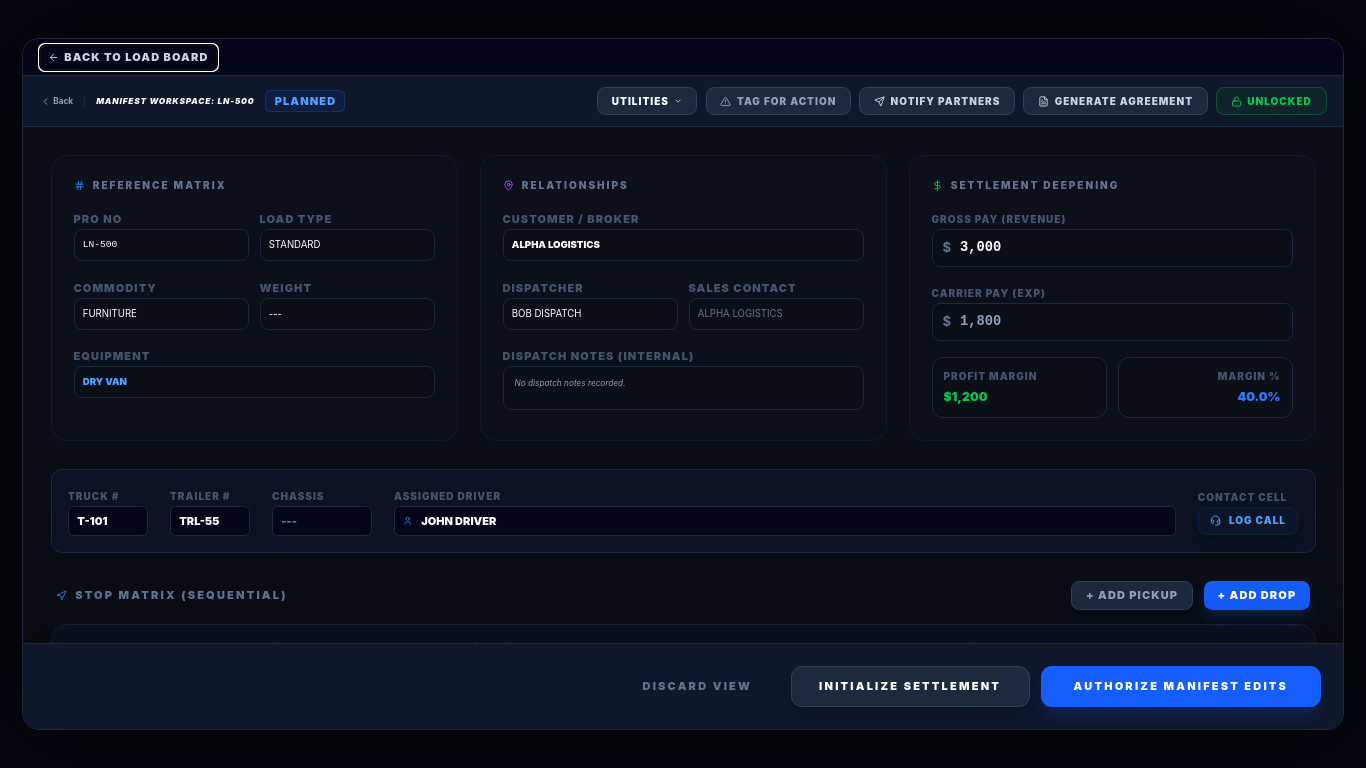
Scenario: LoadDetailView deep coverage — lines 151-190 › toast display after invoice generation (lines 175-180) › disables Initialize Settlement button while generating
The image size is (1366, 768).
Click the button "Initialize Settlement".
click(910, 686)  # box [791,666,1030,707]
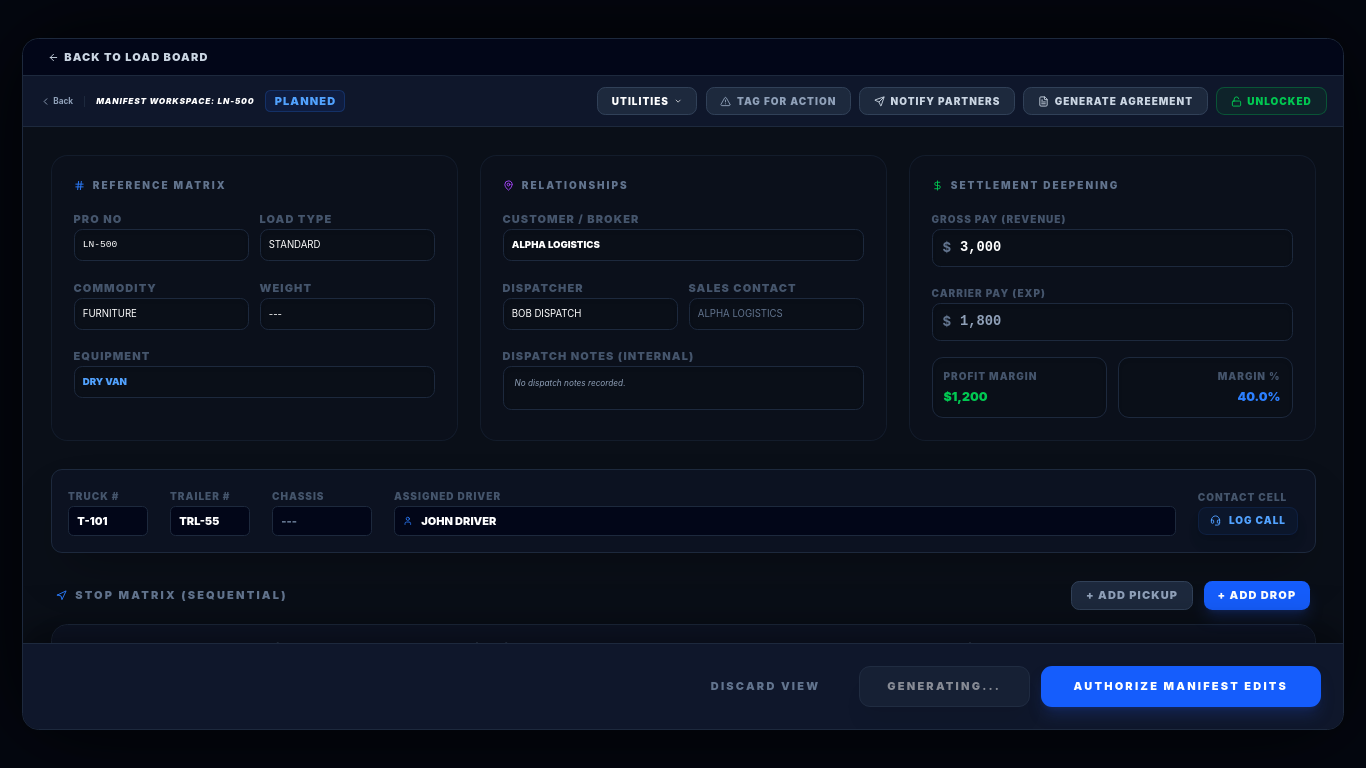
expect the button "Initialize Settlement" is disabled: met, box [859,666,1030,707]
